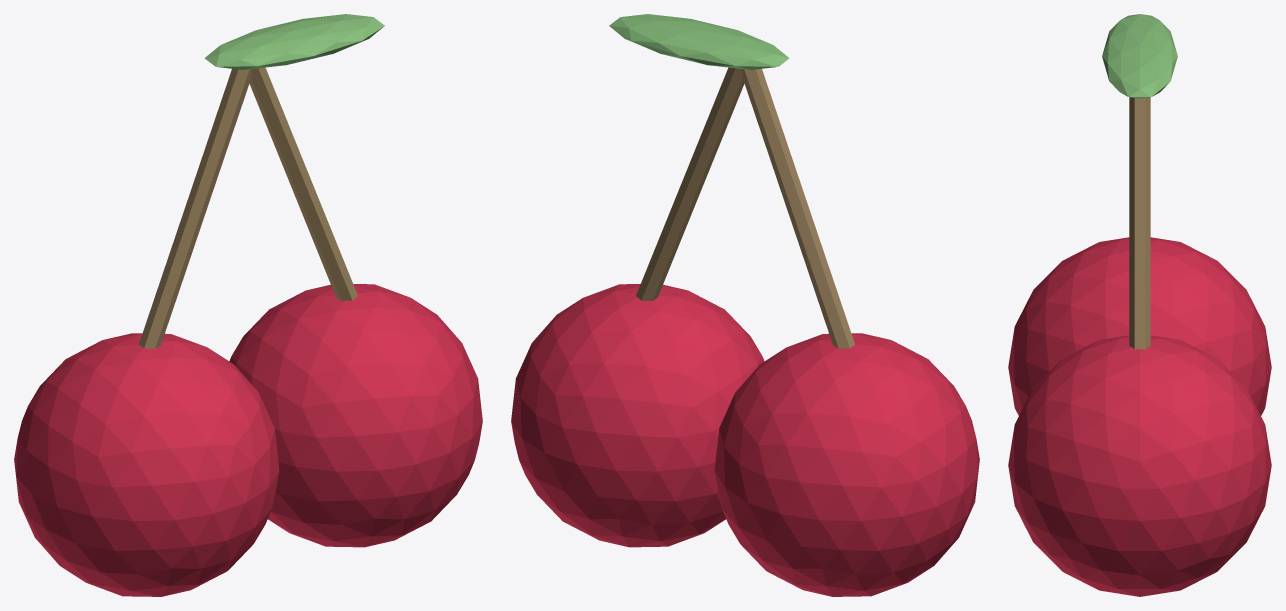
The model's file is HOB_Fruit_Cherries.fbx.
The picture shows the model from 3 angles, left to right: view 1: azimuth 30°, elevation 25°; view 2: azimuth 150°, elevation 25°; view 3: azimuth 270°, elevation 25°; orthographic projection.
Parts seen in each view (by area): view 1: HOB_Fruit_Cherries; view 2: HOB_Fruit_Cherries; view 3: HOB_Fruit_Cherries.
Part boxes in pixels (box(x1,y1,x2,y2)): HOB_Fruit_Cherries: box(14, 14, 482, 596); HOB_Fruit_Cherries: box(511, 14, 979, 596); HOB_Fruit_Cherries: box(1008, 14, 1271, 596).
Size of the model in its own units: 113 by 129 by 60.
